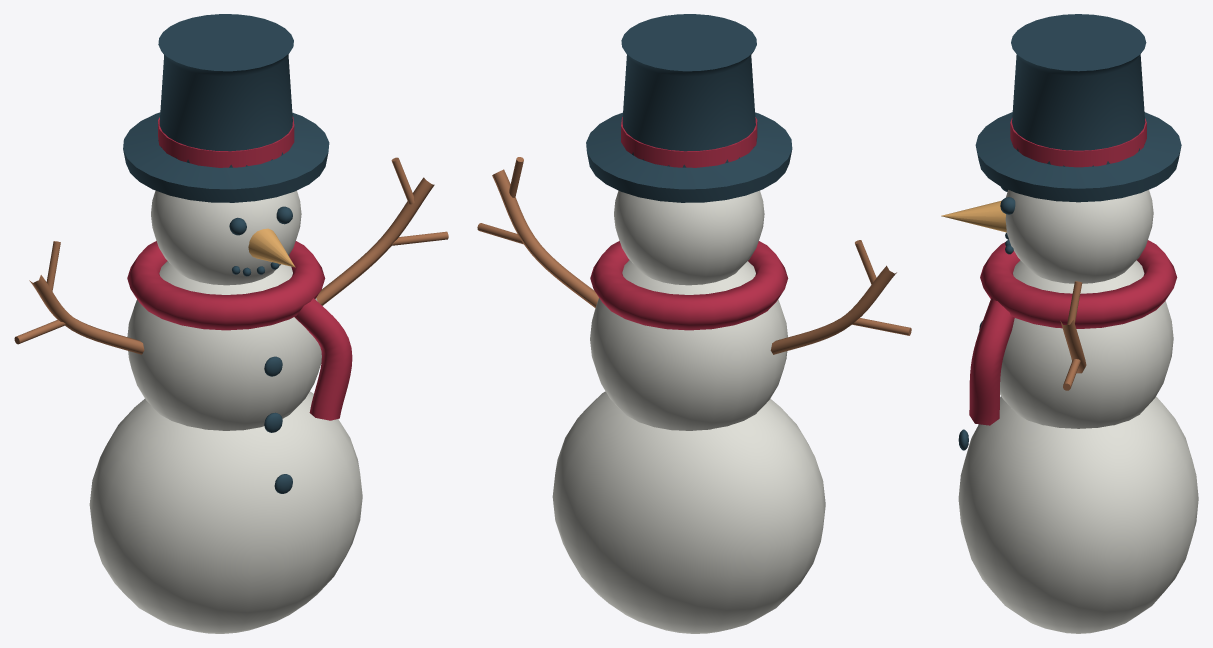
File: storybook-christmas-market-storybook-snowman-fdb1a0ef__19735.glb
3 views of the same model, side by side, from view 1: azimuth 30°, elevation 25°; view 2: azimuth 150°, elevation 25°; view 3: azimuth 270°, elevation 25° (orthographic).
Parts seen in each view (by area): view 1: storybook-snowman; view 2: storybook-snowman; view 3: storybook-snowman.
Boxes of the visible parts, box(x1,y1,x2,y2) form: storybook-snowman: box(14, 14, 448, 633); storybook-snowman: box(477, 14, 911, 633); storybook-snowman: box(941, 14, 1198, 633).
Bounding box in the file's own units: 1.68 × 2.17 × 0.878.
